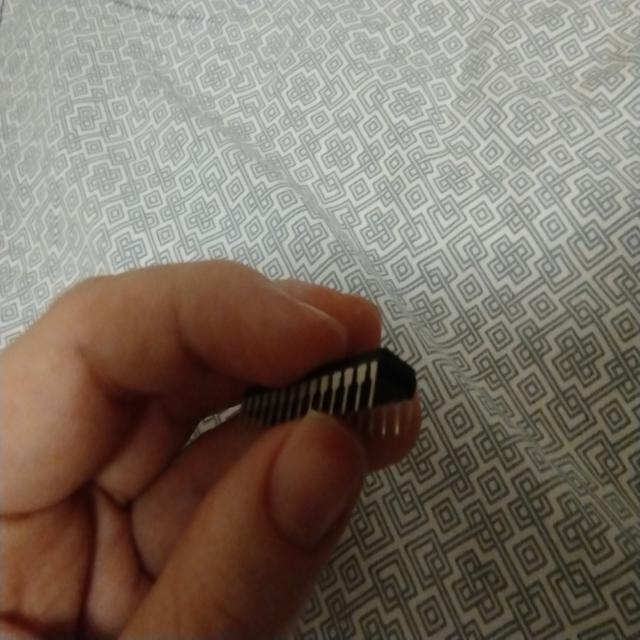atmega: (233, 343, 428, 442)
